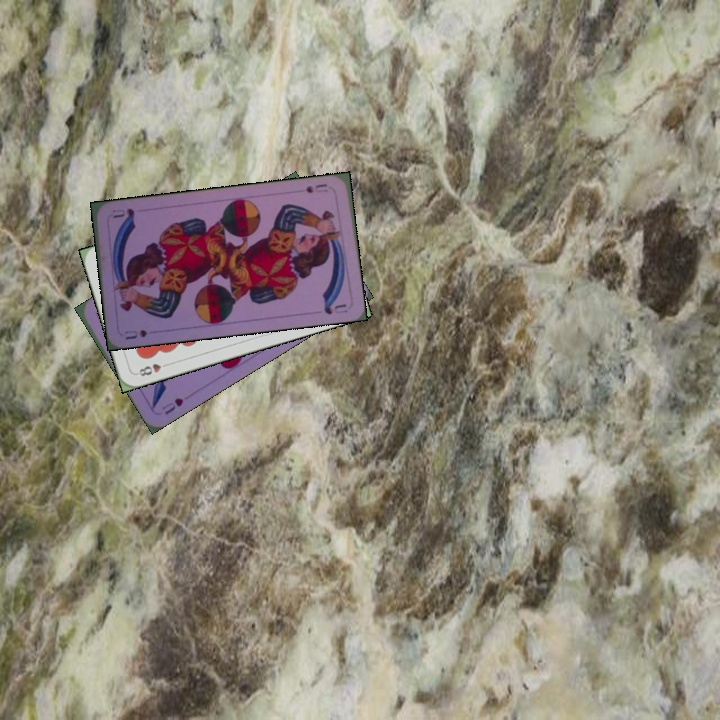H8: (132, 359, 172, 379)
HU: (157, 393, 186, 417)
SU: (121, 325, 149, 342), (302, 180, 330, 196)
